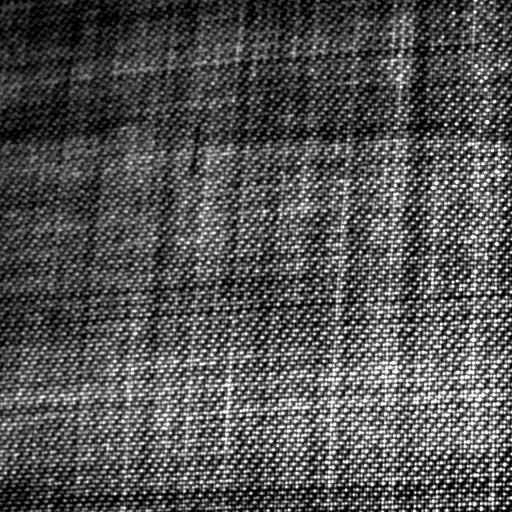fabric_perfect: (0, 4, 510, 512)
